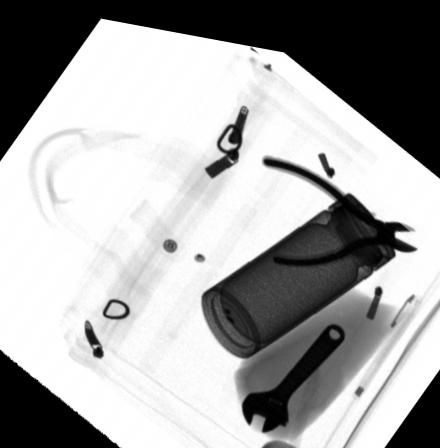Pliers: (261, 143, 420, 257)
Wrench: (240, 308, 348, 423)
